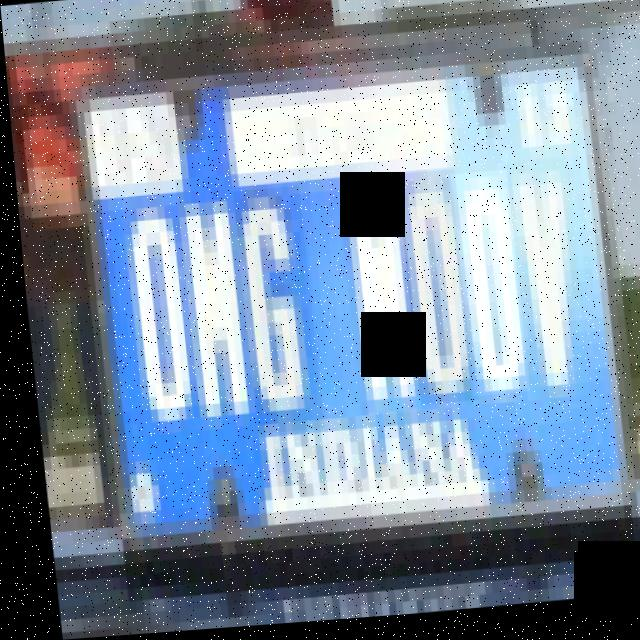0: (114, 192, 193, 436), (392, 176, 470, 412), (447, 176, 522, 403)
G: (228, 189, 315, 437)
M: (173, 187, 249, 456), (339, 182, 413, 423)
V: (501, 164, 584, 415)
